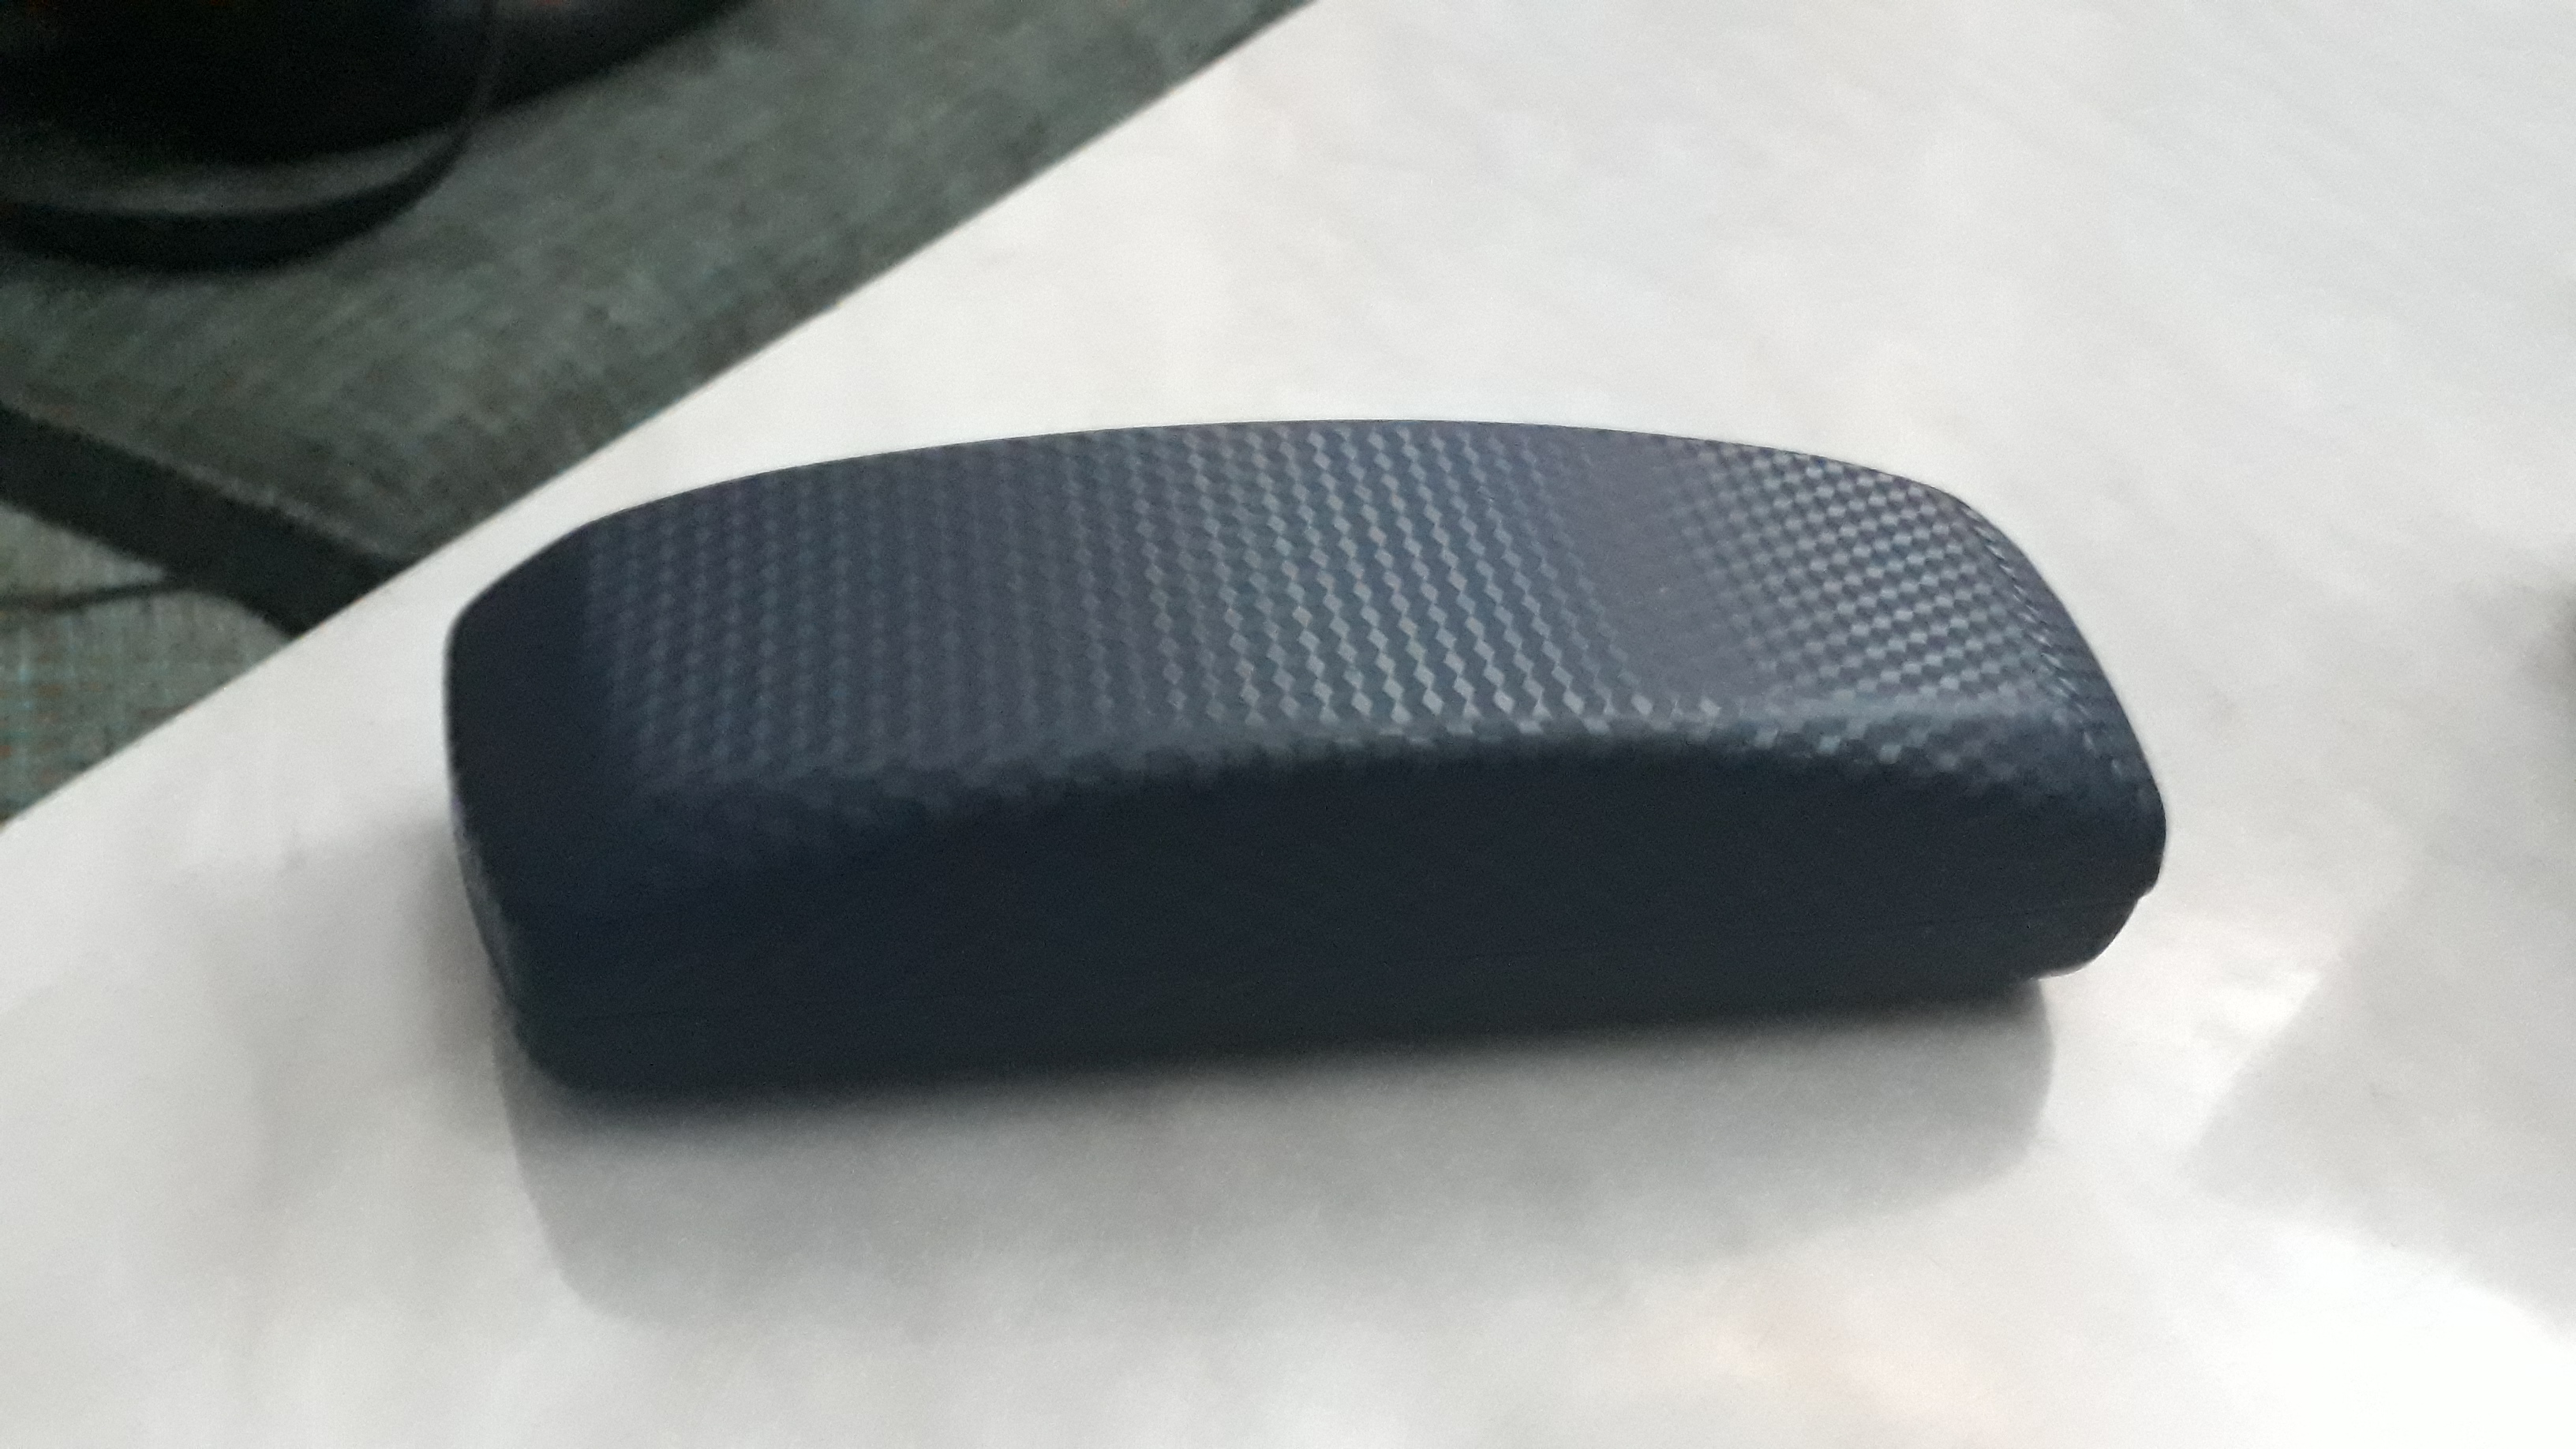nadar: (410, 380, 2183, 1178)
